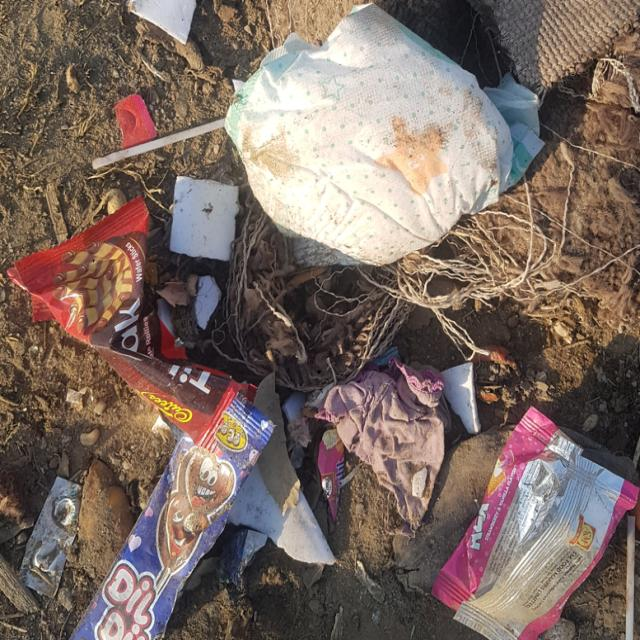electronic: (68, 376, 276, 638), (428, 402, 638, 638), (5, 194, 150, 346), (92, 112, 228, 178), (18, 475, 83, 598), (315, 427, 346, 521)
